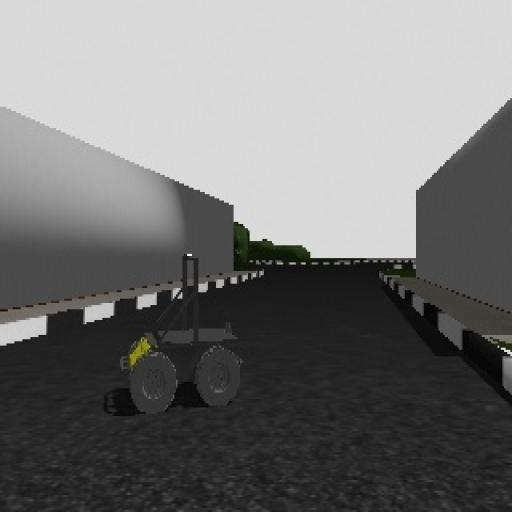huskya200: (98, 233, 257, 442)
